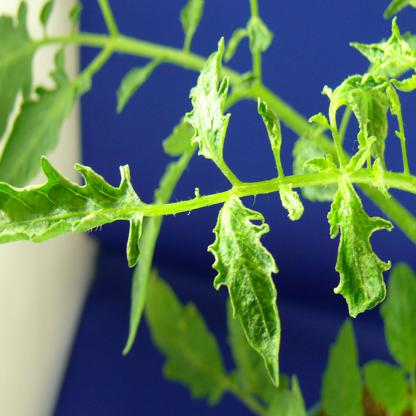Tomato leaf mosaic virus: (200, 194, 296, 393), (0, 165, 157, 262), (311, 179, 396, 329), (180, 31, 236, 166)
